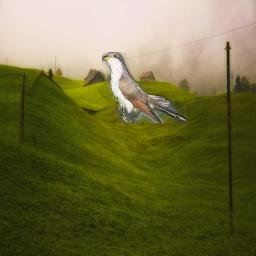Cuckoo: (102, 52, 186, 123)
